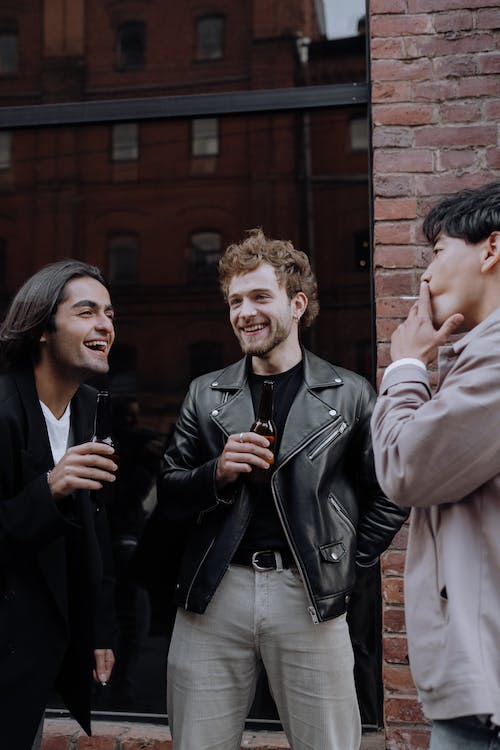alcohol: (84, 384, 130, 506), (243, 377, 280, 489)
cigarette: (395, 290, 422, 304), (99, 677, 109, 688)
